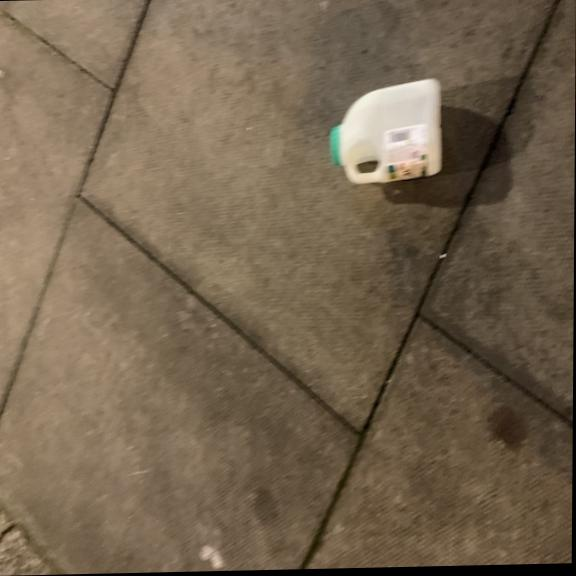Plastik: (327, 72, 449, 193)
